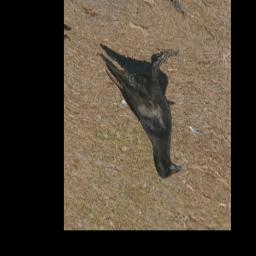Crow: (84, 14, 199, 188)
